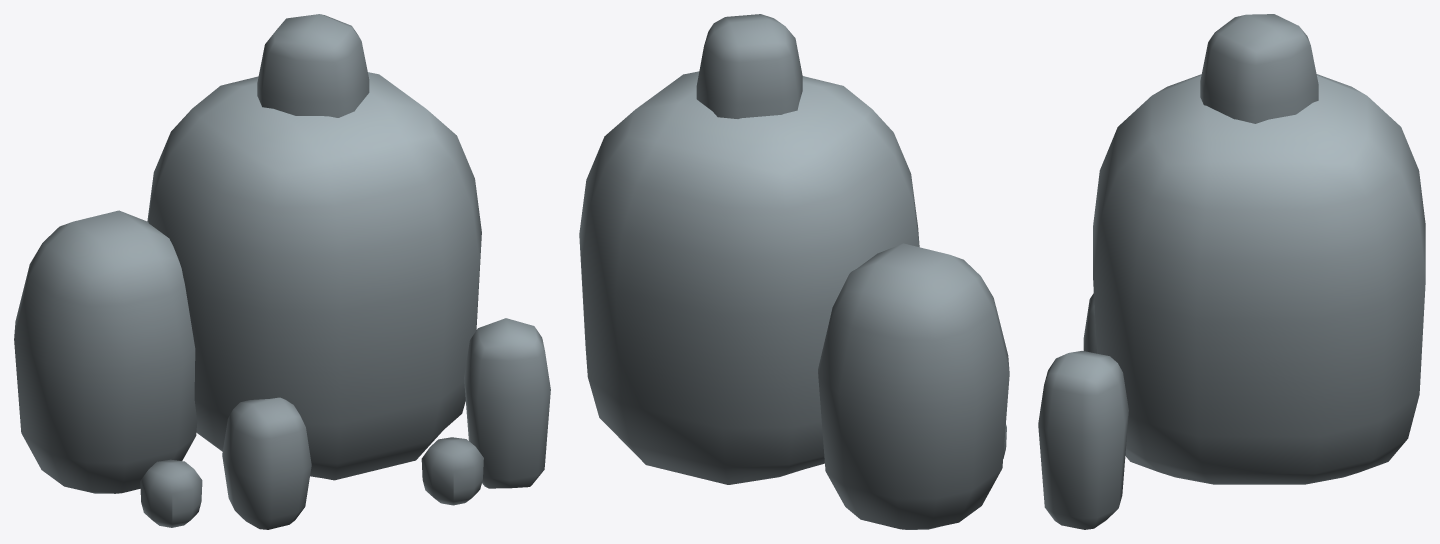
File: Rock_6_H_Color1.gltf
3 renders of one model, left to right at view 1: azimuth 30°, elevation 25°; view 2: azimuth 150°, elevation 25°; view 3: azimuth 270°, elevation 25°, orthographic. The views are drawn at different scales.
Visible parts, largest first — view 1: Rock_6_H_Color1; view 2: Rock_6_H_Color1; view 3: Rock_6_H_Color1.
Boxes of the visible parts, bbox=[...] form: Rock_6_H_Color1: bbox=[14, 14, 550, 529]; Rock_6_H_Color1: bbox=[579, 14, 1009, 529]; Rock_6_H_Color1: bbox=[1038, 14, 1425, 529].
Size of the model in its own units: 2.25 by 2.22 by 1.76.
Materials: 1 (1 with a texture image).
